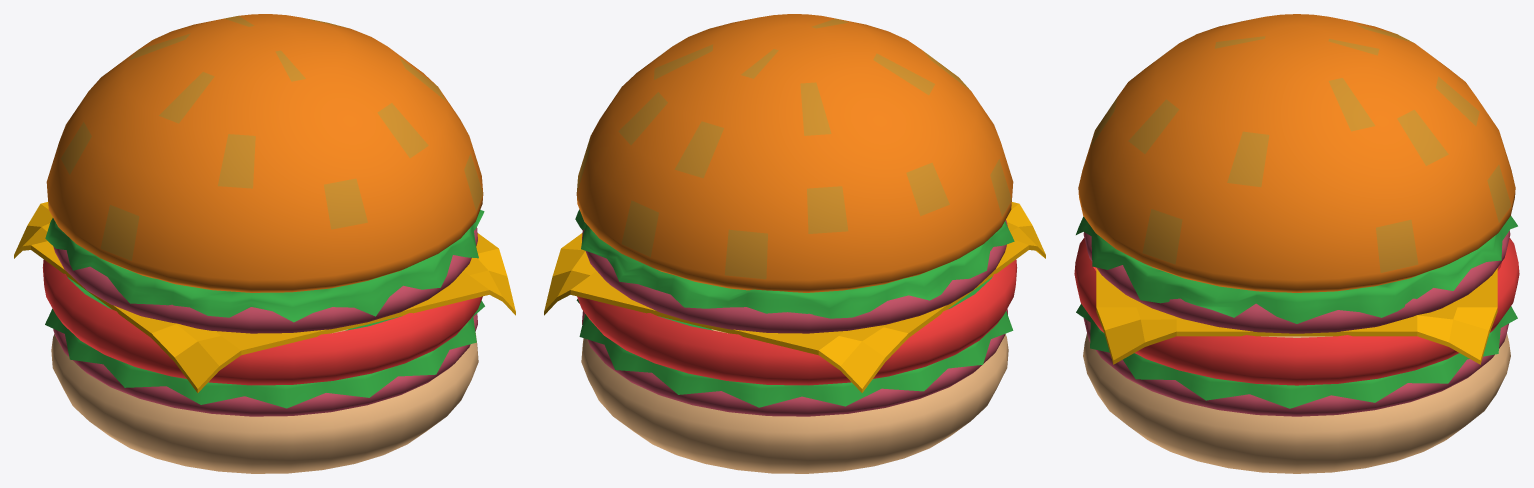
Rendered from scene_burger.glb.
3 renders of one model, left to right at view 1: azimuth 30°, elevation 25°; view 2: azimuth 150°, elevation 25°; view 3: azimuth 270°, elevation 25°, orthographic.
Parts seen in each view (by area): view 1: Circle; view 2: Circle; view 3: Circle.
Part boxes in pixels (x1,y1,x2,y2): Circle: [14, 14, 515, 473]; Circle: [544, 14, 1045, 473]; Circle: [1074, 14, 1519, 473].
Bounding box in the file's own units: 361 × 322 × 361.
